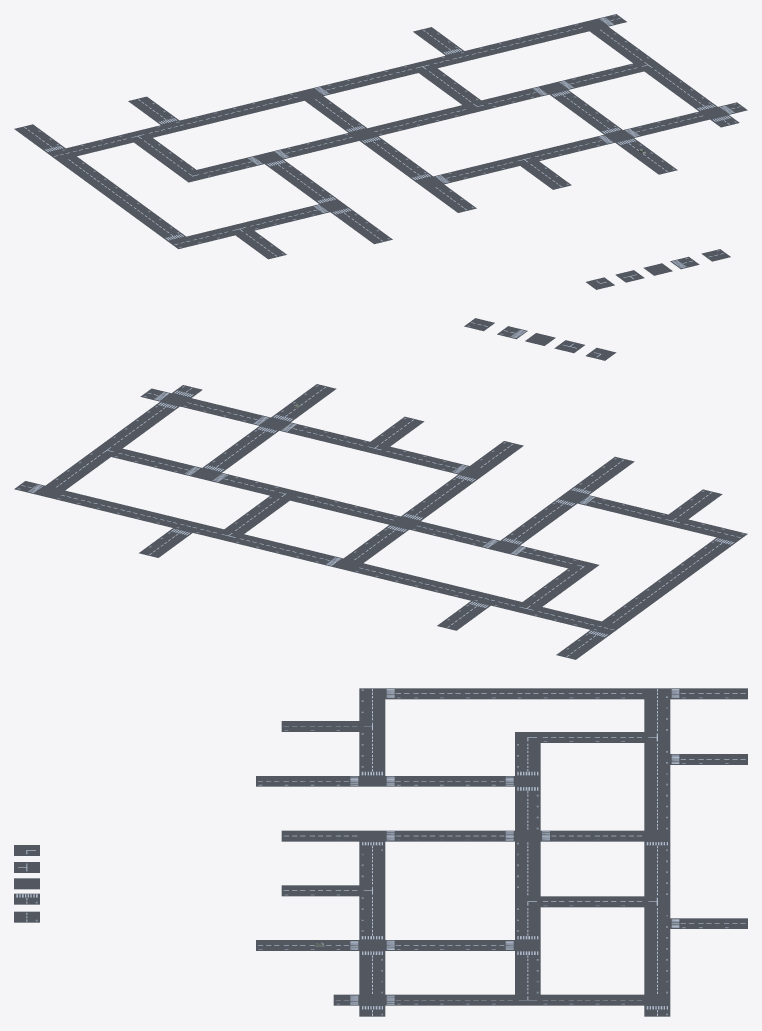
Rendered from Roads.fbx.
The picture shows the model from 3 angles, top to bottom: view 1: azimuth 30°, elevation 25°; view 2: azimuth 150°, elevation 25°; view 3: azimuth 270°, elevation 25°; orthographic projection. The views are drawn at different scales.
Bounding box in the file's own units: 35304 × 182 × 33347.
